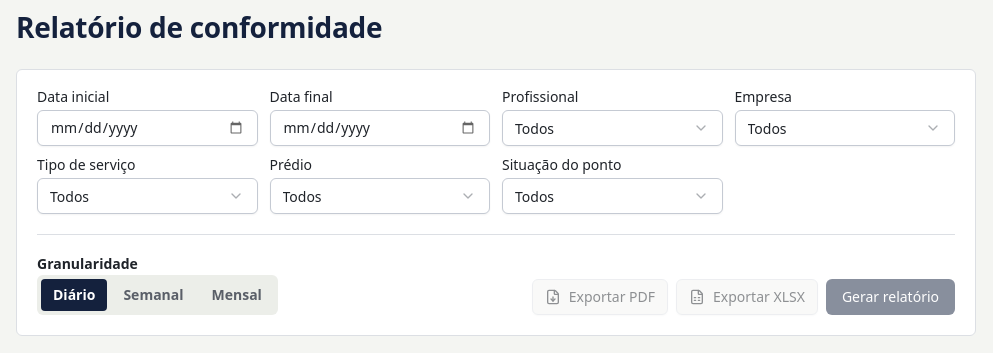
Test: ReportsPage › keeps 'Gerar relatório' disabled until a valid date range is set
Expected: the button "Gerar relatório" is disabled, [826,279,955,315]
Type "2026-08-05" into the date field labelled "Data inicial".
click(147, 128); type("2026-08-05")  # box [37,110,258,146]
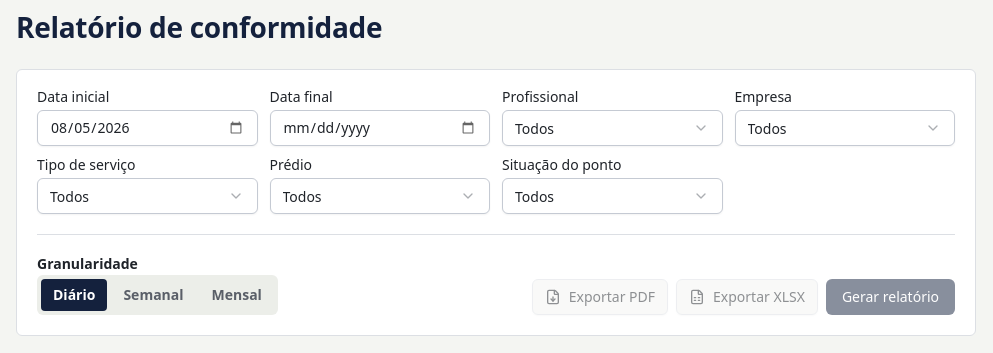
Type "2026-08-01" into the date field labelled "Data final".
click(380, 128); type("2026-08-01")  # box [270,110,490,146]
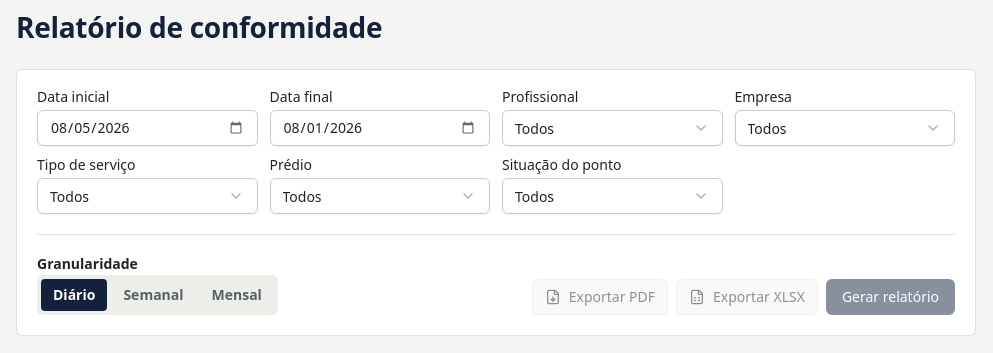
Expected: the button "Gerar relatório" is disabled, [826,279,955,315]
Type "2026-08-10" into the date field labelled "Data final".
click(380, 128); type("2026-08-10")  # box [270,110,490,146]
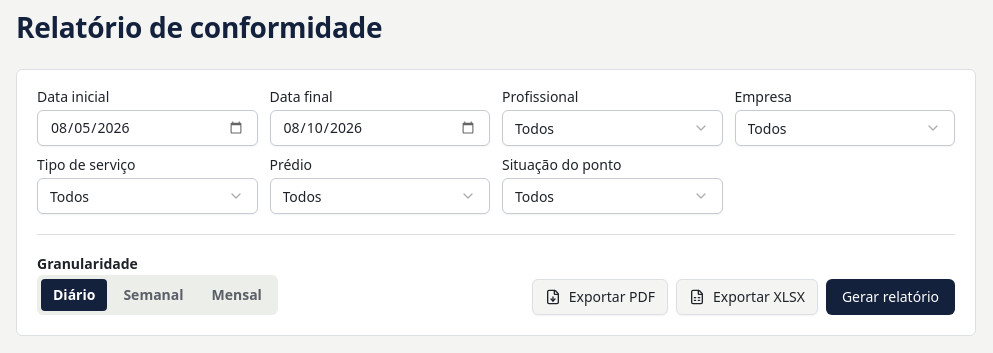
Expected: the button "Gerar relatório" is enabled, [826,279,955,315]
